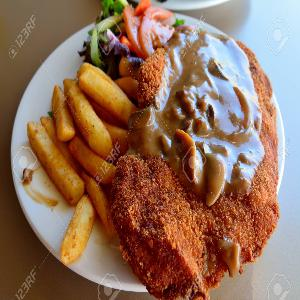fries_350cal: (30, 73, 123, 187)
